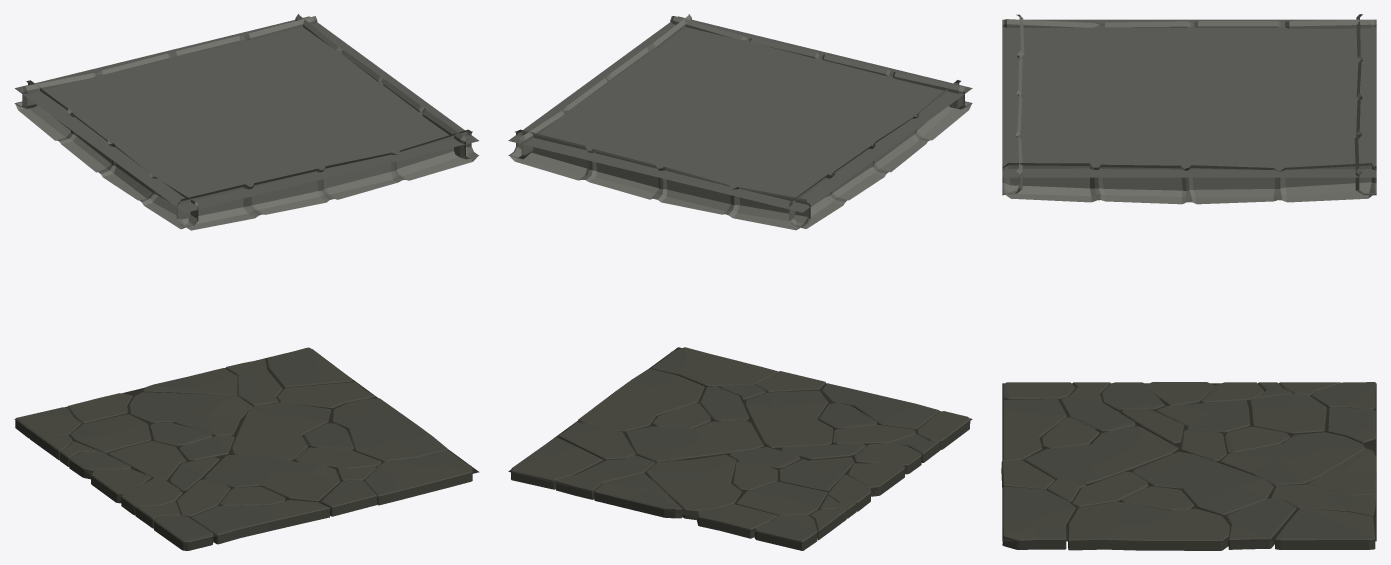
The model's file is Dungeon_Custom_Center.glb.
3 views of the same model, side by side, from view 1: azimuth 30°, elevation 25°; view 2: azimuth 150°, elevation 25°; view 3: azimuth 270°, elevation 25° (orthographic). The views are drawn at different scales.
Visible parts, largest first — view 1: Dungeon_Custom_Center; view 2: Dungeon_Custom_Center; view 3: Dungeon_Custom_Center.
Part boxes in pixels (bbox=[...]): Dungeon_Custom_Center: bbox=[14, 14, 479, 550]; Dungeon_Custom_Center: bbox=[508, 14, 972, 550]; Dungeon_Custom_Center: bbox=[1001, 14, 1376, 550].
Size of the model in its own units: 4.02 by 4.49 by 4.01.
Materials: 2 (2 with a texture image).
